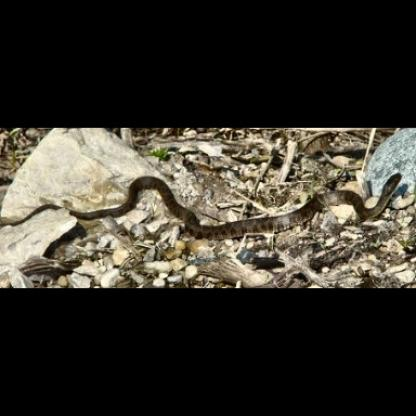Snake: (11, 169, 412, 240)
